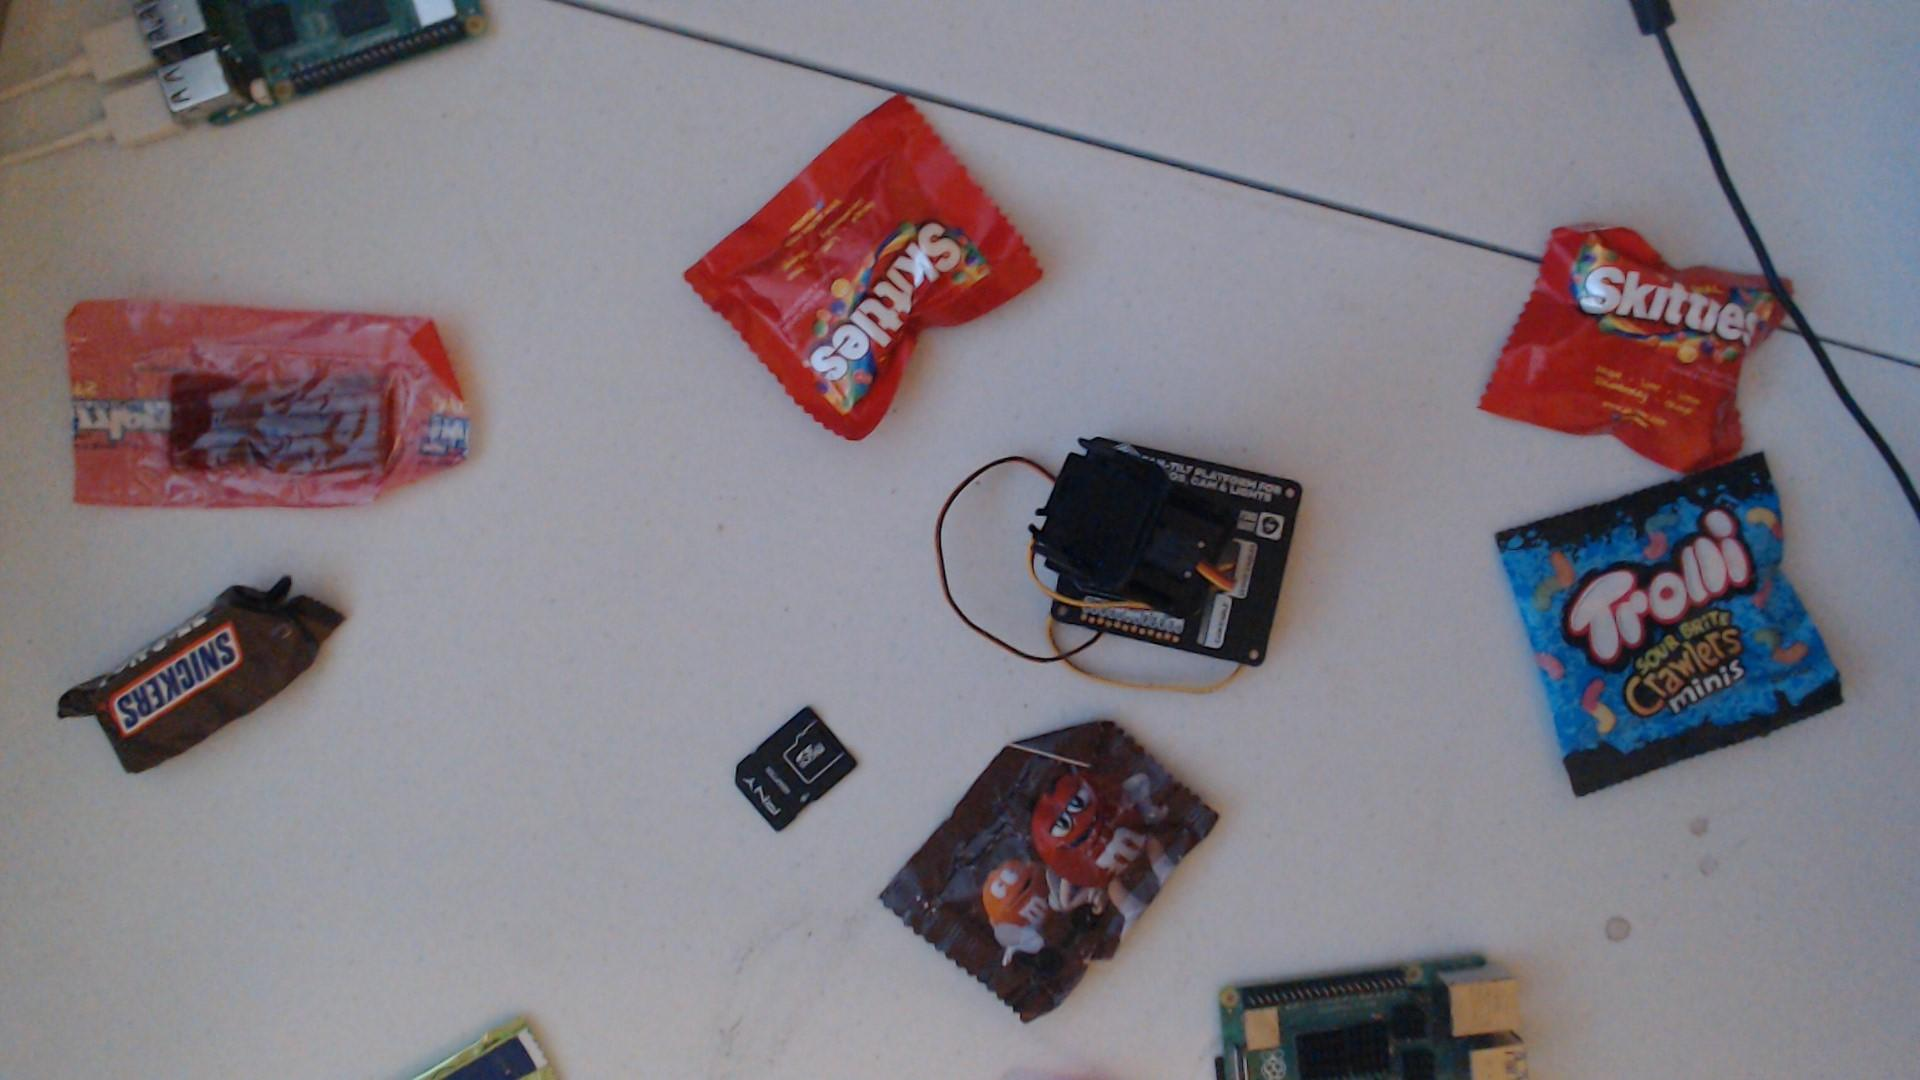MM_regular: (872, 715, 1221, 1026)
Snickers: (47, 571, 355, 787)
Trolli: (1465, 450, 1858, 790)
skittles: (663, 87, 1063, 447), (1462, 169, 1797, 477)
twizzlers: (55, 284, 480, 525)
